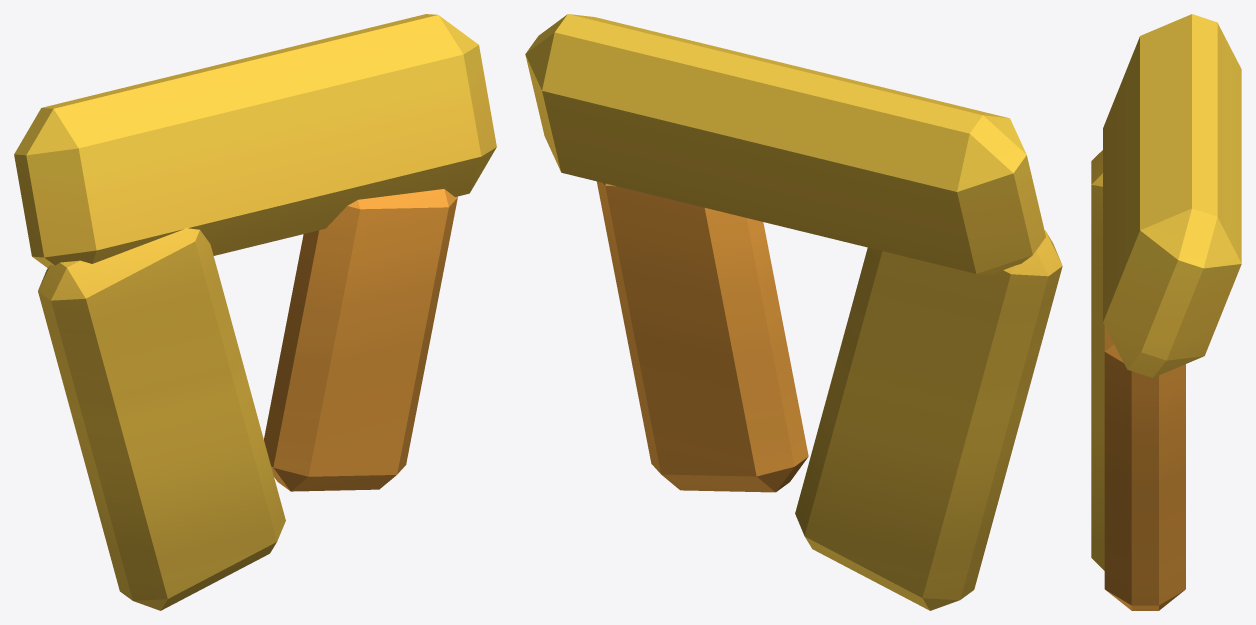
File: Lenco_Amarelo.glb
3 views of the same model, side by side, from view 1: azimuth 30°, elevation 25°; view 2: azimuth 150°, elevation 25°; view 3: azimuth 270°, elevation 25° (orthographic). The views are drawn at different scales.
Parts seen in each view (by area): view 1: Lenco_Malha; view 2: Lenco_Malha; view 3: Lenco_Malha.
Boxes of the visible parts, x1=… form: Lenco_Malha: x1=14, y1=14, x2=496, y2=610; Lenco_Malha: x1=525, y1=14, x2=1062, y2=610; Lenco_Malha: x1=1091, y1=14, x2=1241, y2=610.
Size of the model in its own units: 0.2019 by 0.2083 by 0.0556.
1 material, 1 textured.
